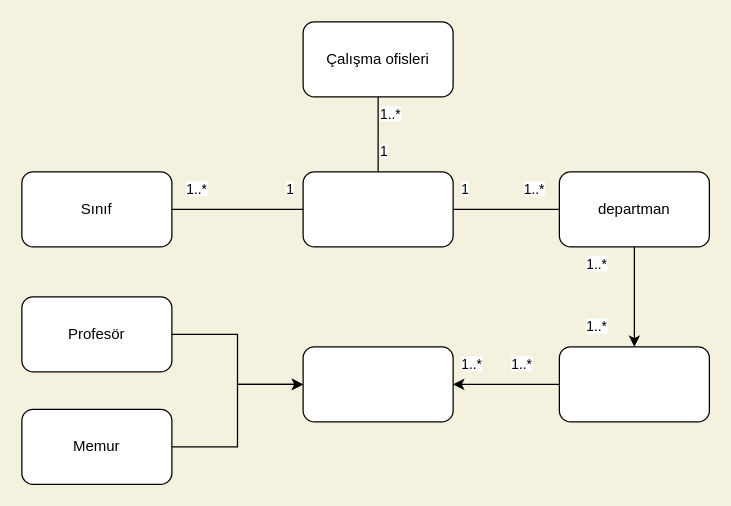
Some shapes in this 731 by 506 pixel diagram are drawn without their labels. Here are the shapes that lost their labels. From the top down, the centre of each, then its label:
At point 377,209: "Üniversite".
At point 377,384: "Çalışan".
At point 633,384: "ofis".
